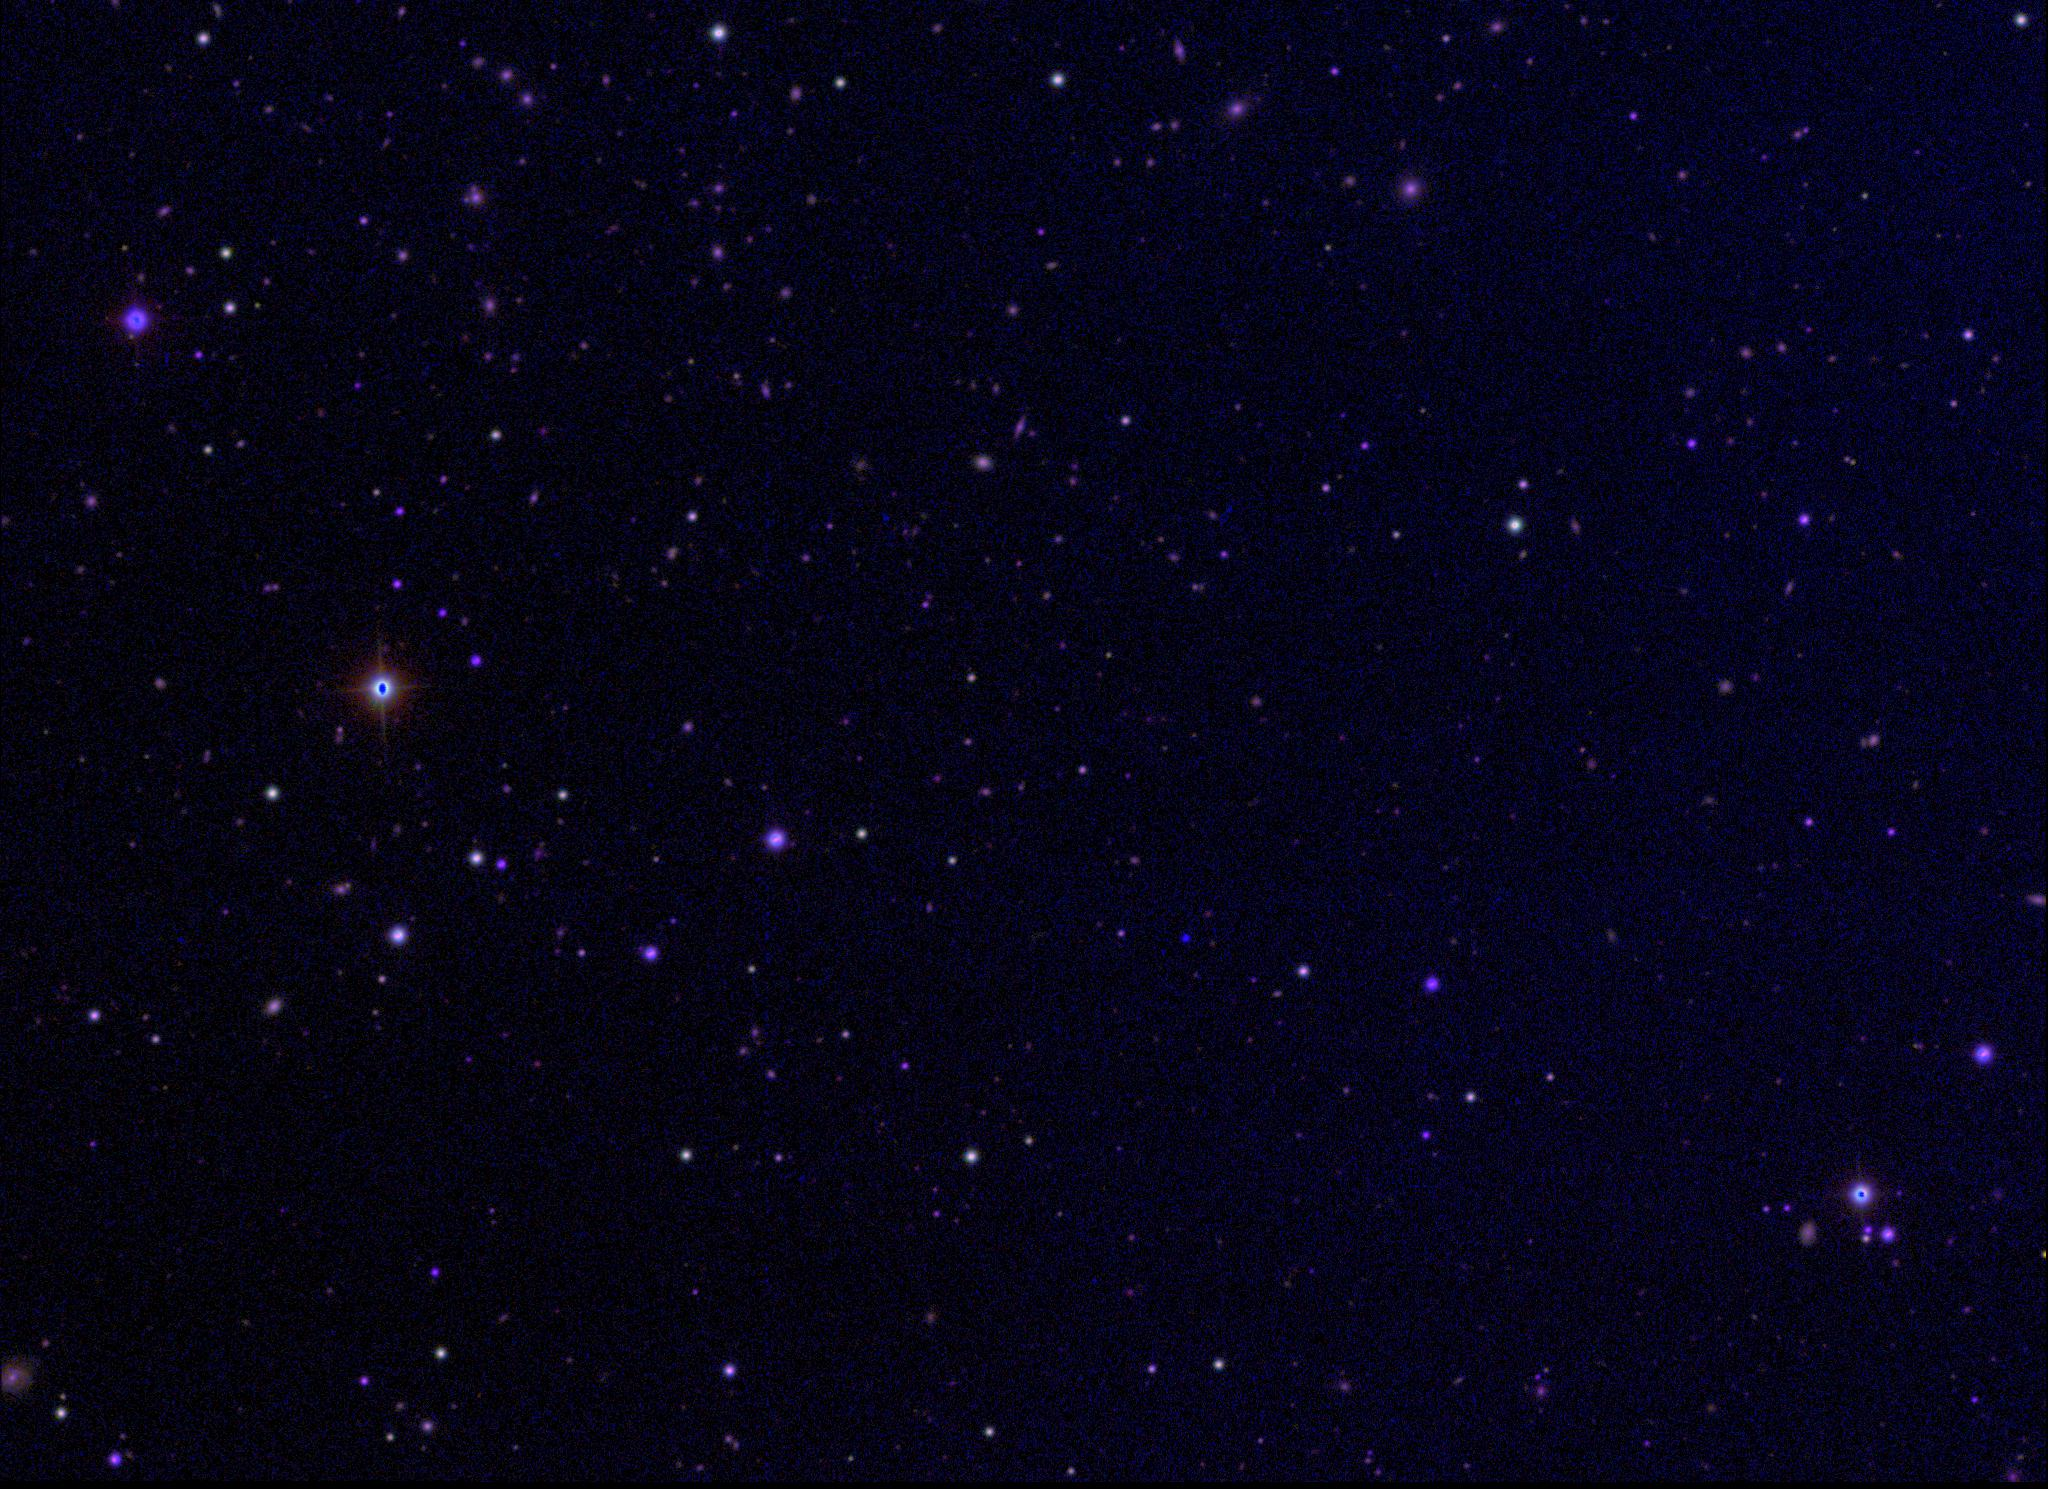L: (1178, 932, 1193, 947)
